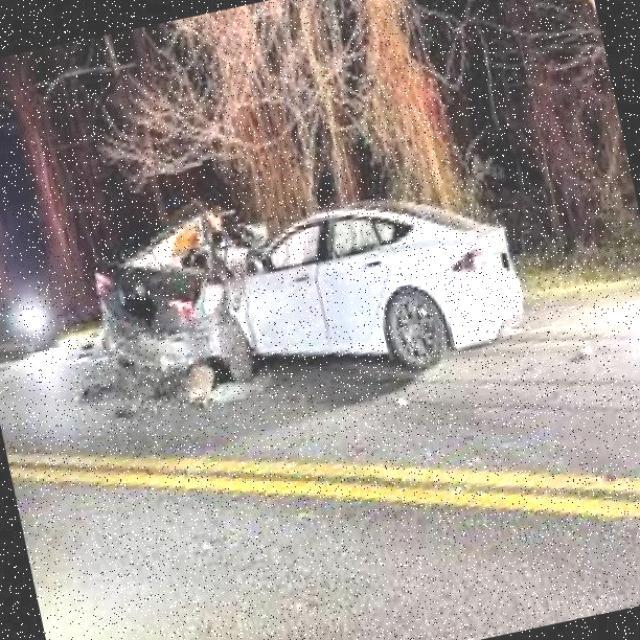accident: (90, 200, 365, 400)
